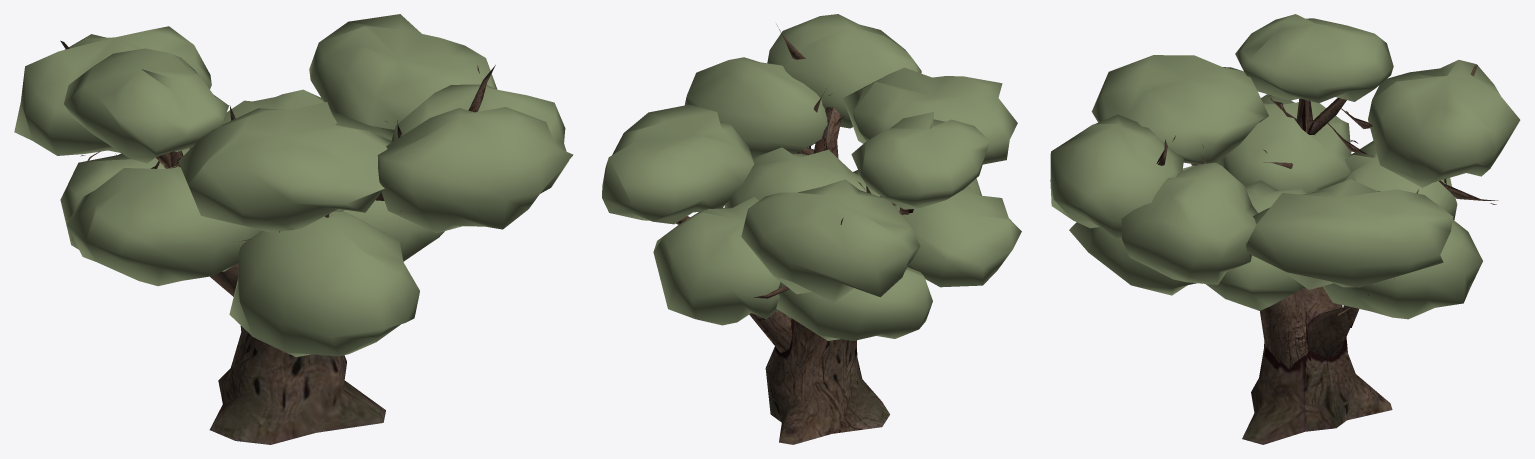
Rendered from a35_olive_b.glb.
3 views of the same model, side by side, from view 1: azimuth 30°, elevation 25°; view 2: azimuth 150°, elevation 25°; view 3: azimuth 270°, elevation 25° (orthographic). The views are drawn at different scales.
Visible parts, largest first — view 1: body; view 2: body; view 3: body.
Boxes of the visible parts, <box> form: body: <box>14,14,573,444</box>; body: <box>602,14,1021,444</box>; body: <box>1050,14,1520,444</box>.
Bounding box in the file's own units: 0.9377 × 0.7759 × 1.
Materials: 2 (1 with a texture image).
